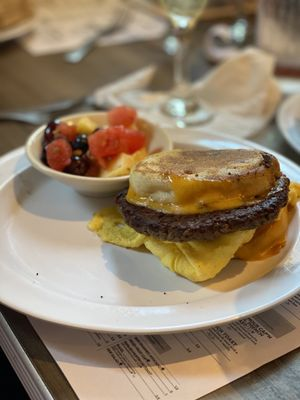sushi: (24, 108, 164, 197)
